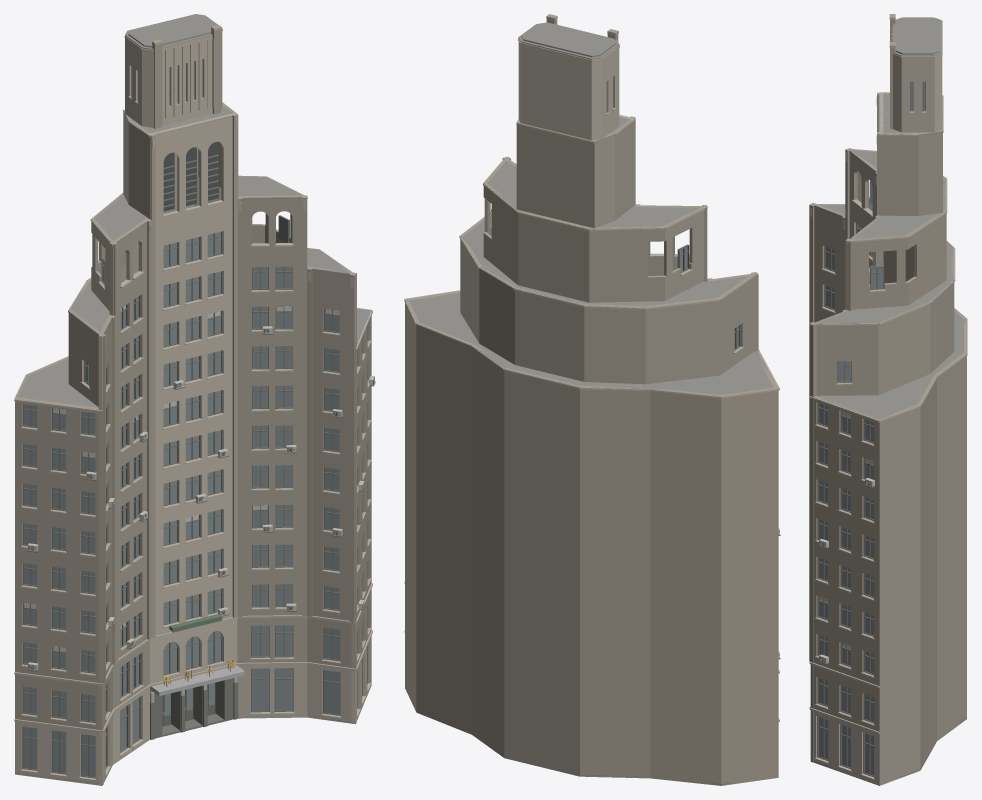
File: huangpu-hamilton-house-raw.glb
3 views of the same model, side by side, from view 1: azimuth 30°, elevation 25°; view 2: azimuth 150°, elevation 25°; view 3: azimuth 270°, elevation 25° (orthographic). The views are drawn at different scales.
Parts seen in each view (by area): view 1: 汉弥登大楼（江西中路170号街角、入口及塔冠）; view 2: 汉弥登大楼（江西中路170号街角、入口及塔冠）; view 3: 汉弥登大楼（江西中路170号街角、入口及塔冠）.
Boxes of the visible parts, x1,y1,x2,y2 form: 汉弥登大楼（江西中路170号街角、入口及塔冠）: (14,14,375,785); 汉弥登大楼（江西中路170号街角、入口及塔冠）: (404,14,780,785); 汉弥登大楼（江西中路170号街角、入口及塔冠）: (809,14,967,785).
Size of the model in its own units: 33.08 by 60.52 by 12.93.
